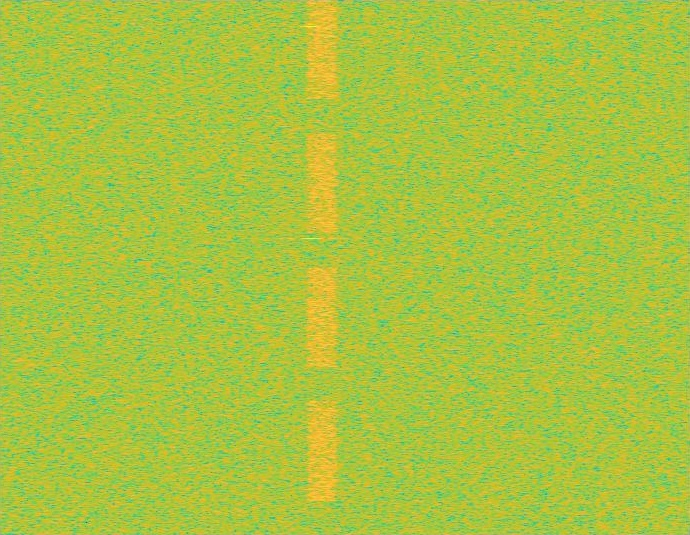5G: (305, 0, 339, 534)
Radar: (305, 0, 319, 534)
